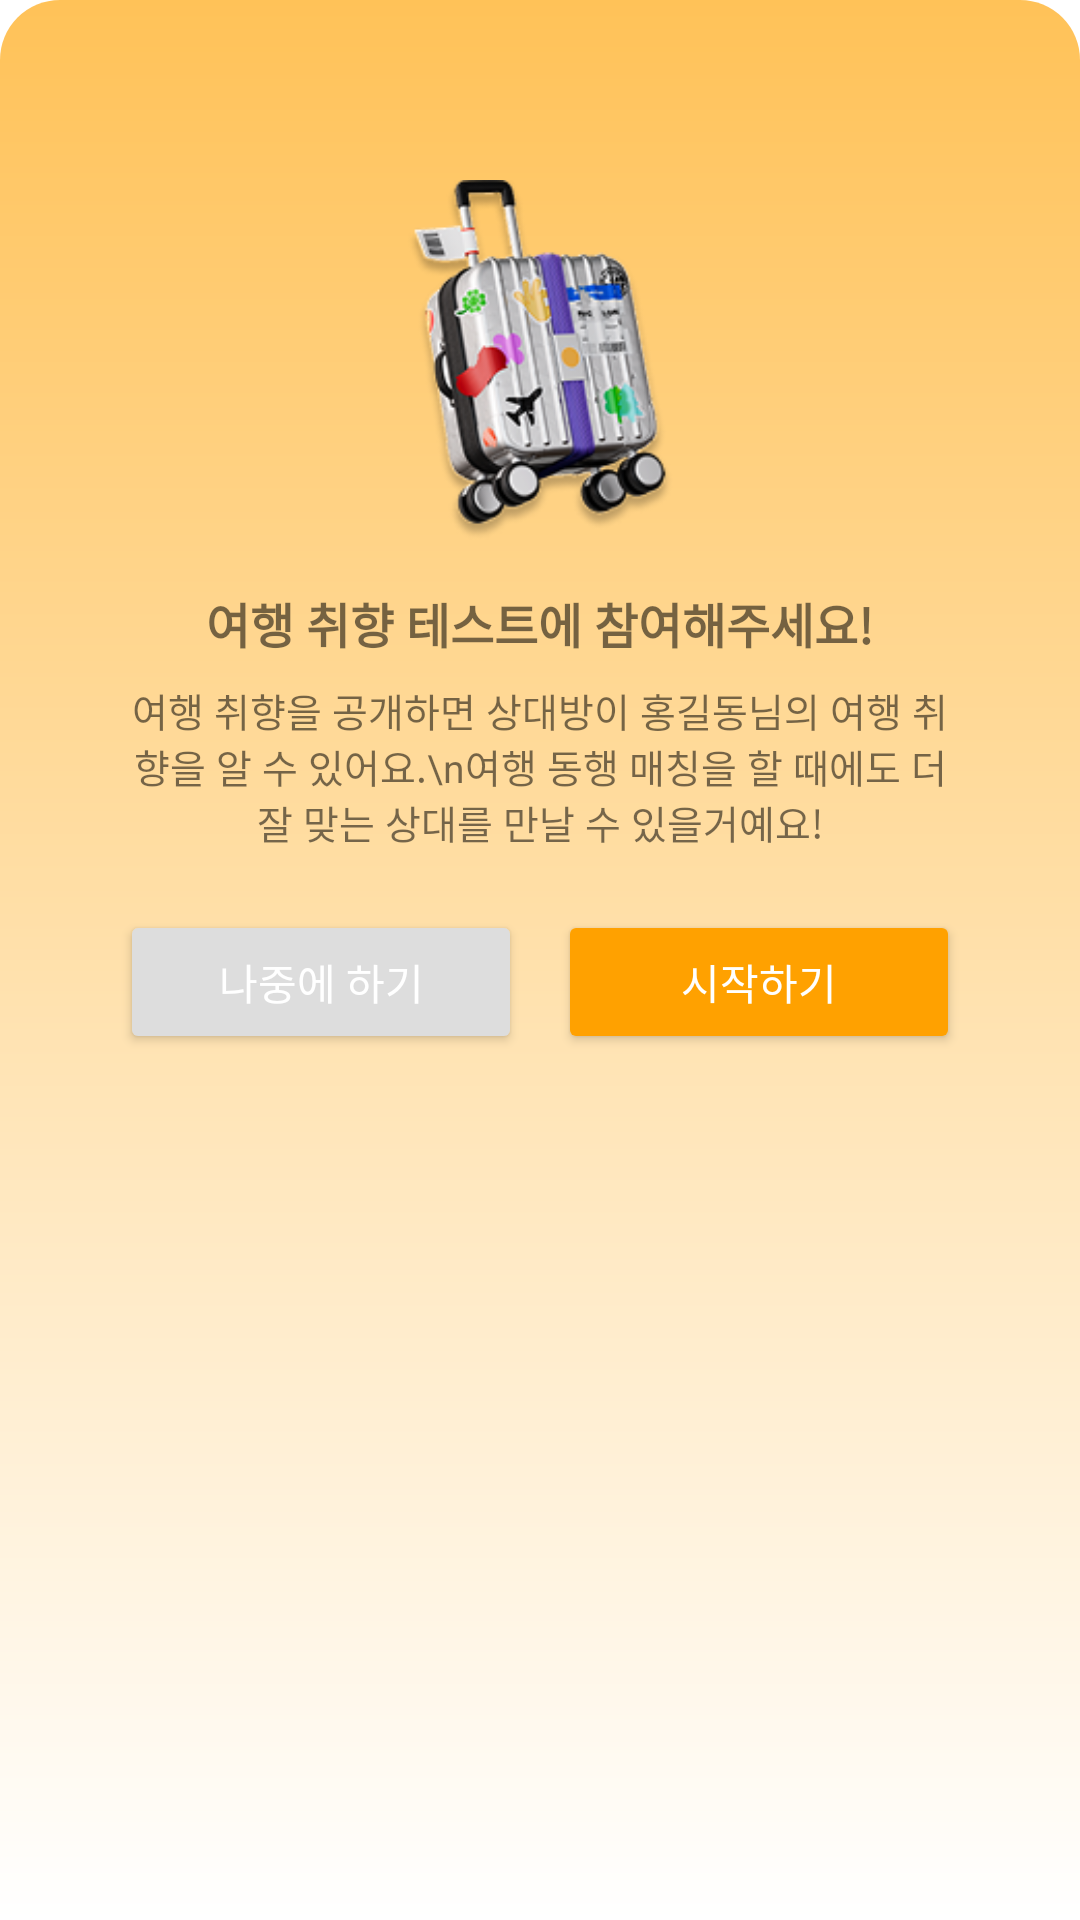

Named icons in this screenshot (1080w x 1920h) and their centers, [x,y]:
travel preference sticker: [540,356]
